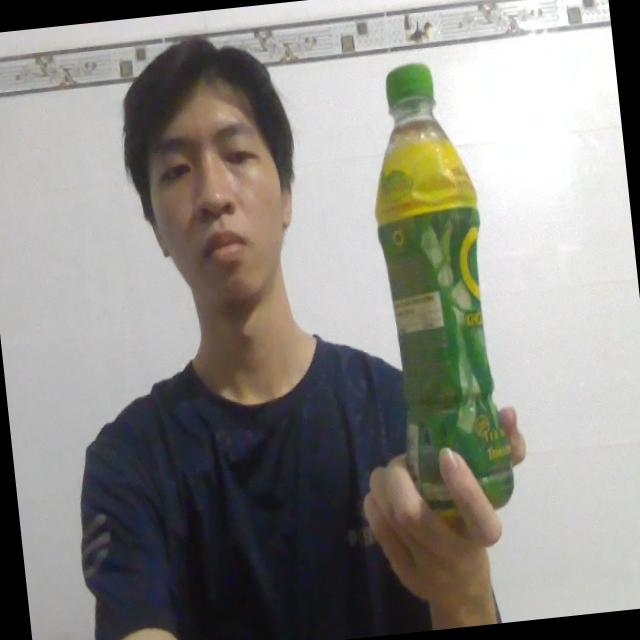tra xanh khong do: (348, 56, 532, 524)
